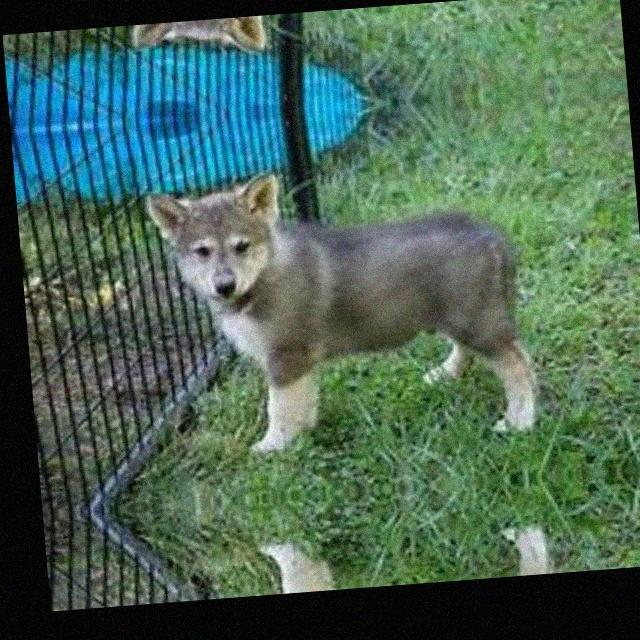dog: (146, 145, 546, 488), (174, 494, 556, 602), (133, 0, 511, 68)
